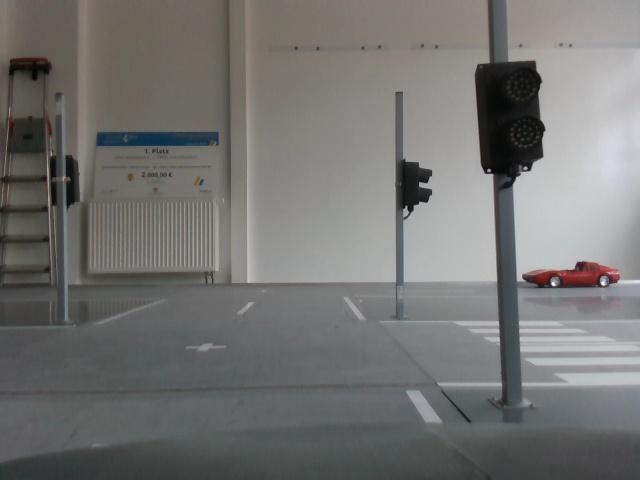car: (529, 249, 625, 296)
traffic light: (474, 61, 552, 181), (394, 157, 439, 217)
